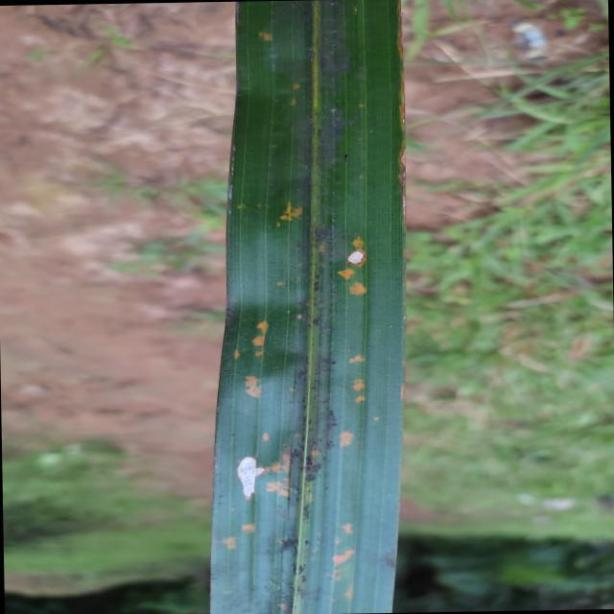Kalium: (205, 0, 404, 614)
